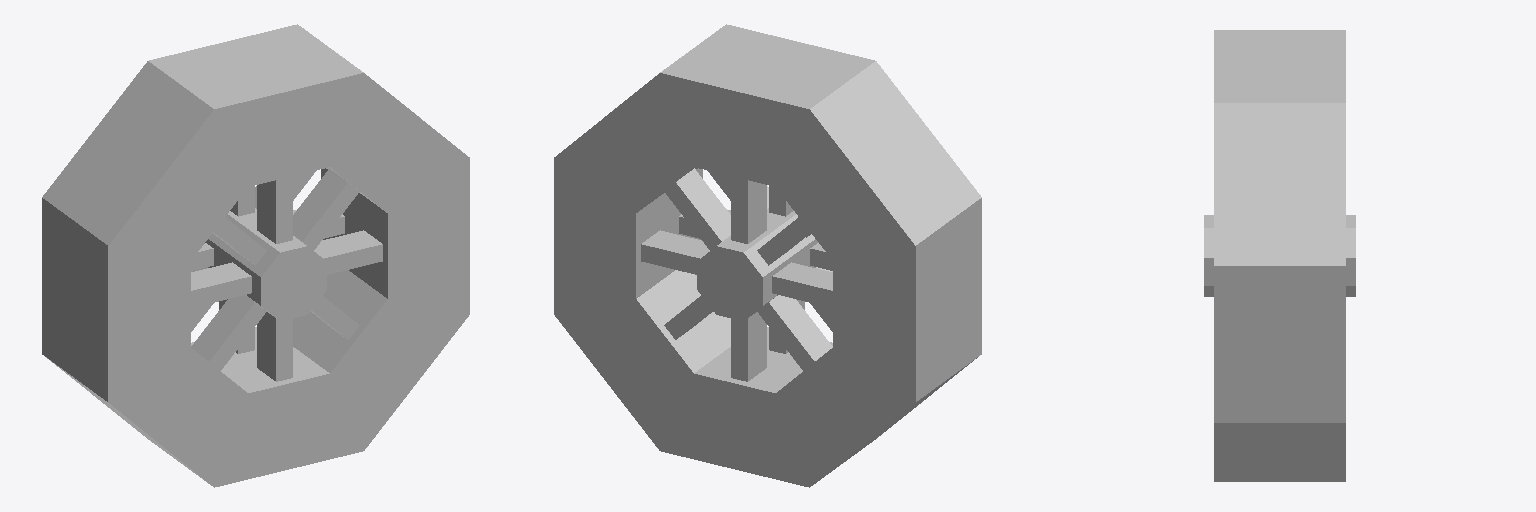
The model's file is flywheel_extra_large.obj.
3 views of the same model, side by side, from view 1: azimuth 30°, elevation 25°; view 2: azimuth 150°, elevation 25°; view 3: azimuth 270°, elevation 25° (orthographic).
Visible parts, largest first — view 1: Flywheel_Cylinder, Shaft; view 2: Flywheel_Cylinder, Shaft; view 3: Flywheel_Cylinder, Shaft.
Part boxes in pixels (left/top/right/bottom): Flywheel_Cylinder: left=42, top=24, right=469, bottom=487; Shaft: left=205, top=208, right=326, bottom=320; Flywheel_Cylinder: left=554, top=24, right=981, bottom=487; Shaft: left=697, top=208, right=818, bottom=320; Flywheel_Cylinder: left=1214, top=30, right=1345, bottom=481; Shaft: left=1204, top=215, right=1355, bottom=296.
Bounding box in the file's own units: 2.75 × 2.75 × 1.